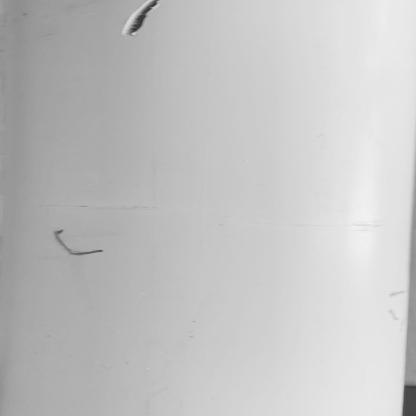fengxi: (46, 221, 110, 263)
kongdong: (114, 1, 159, 41)
